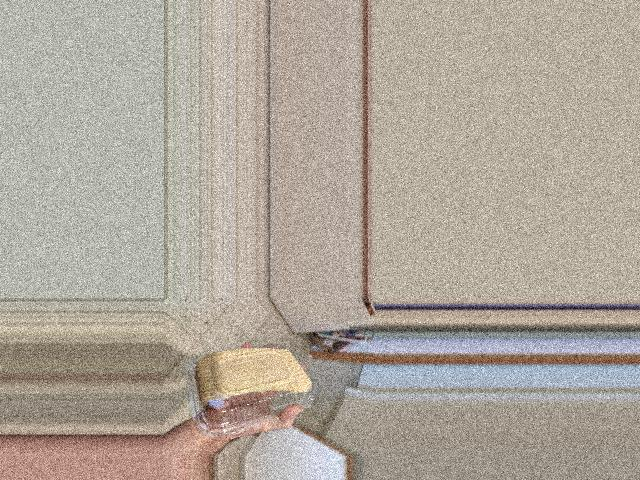cheese: (179, 358, 286, 411)
